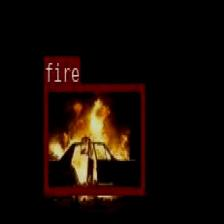fire: (43, 82, 144, 192)
